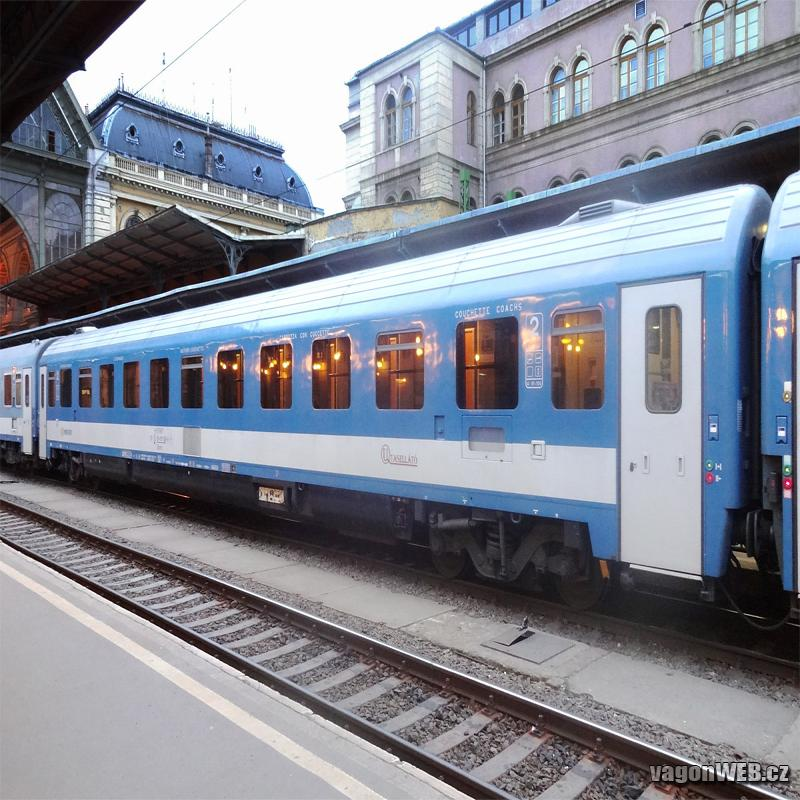train: (38, 185, 771, 638)
